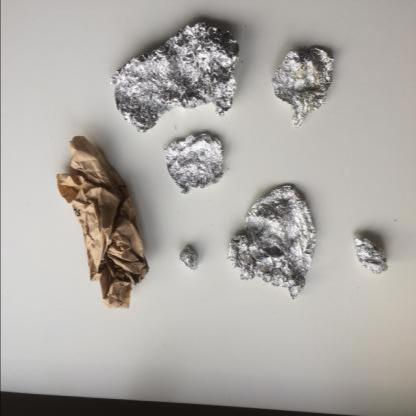Aluminium foil: (110, 22, 240, 132), (227, 185, 316, 301), (272, 48, 334, 129), (163, 134, 224, 196), (353, 237, 388, 275), (178, 247, 198, 272)
Other litter: (55, 136, 148, 309)
